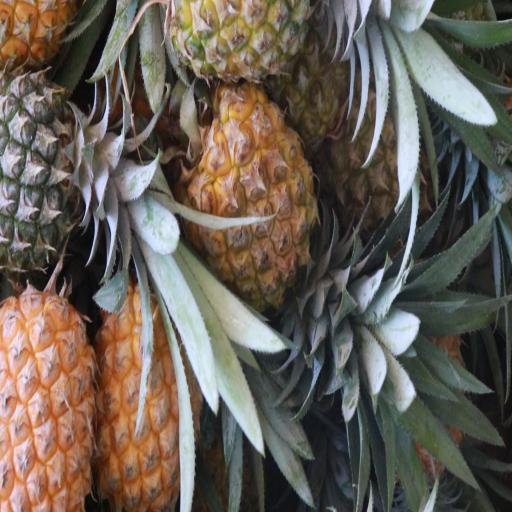------------------------------: (324, 82, 426, 246)
Pineapple - v8 v1: (190, 88, 316, 303), (94, 295, 200, 512), (0, 294, 93, 510), (169, 0, 324, 88)
